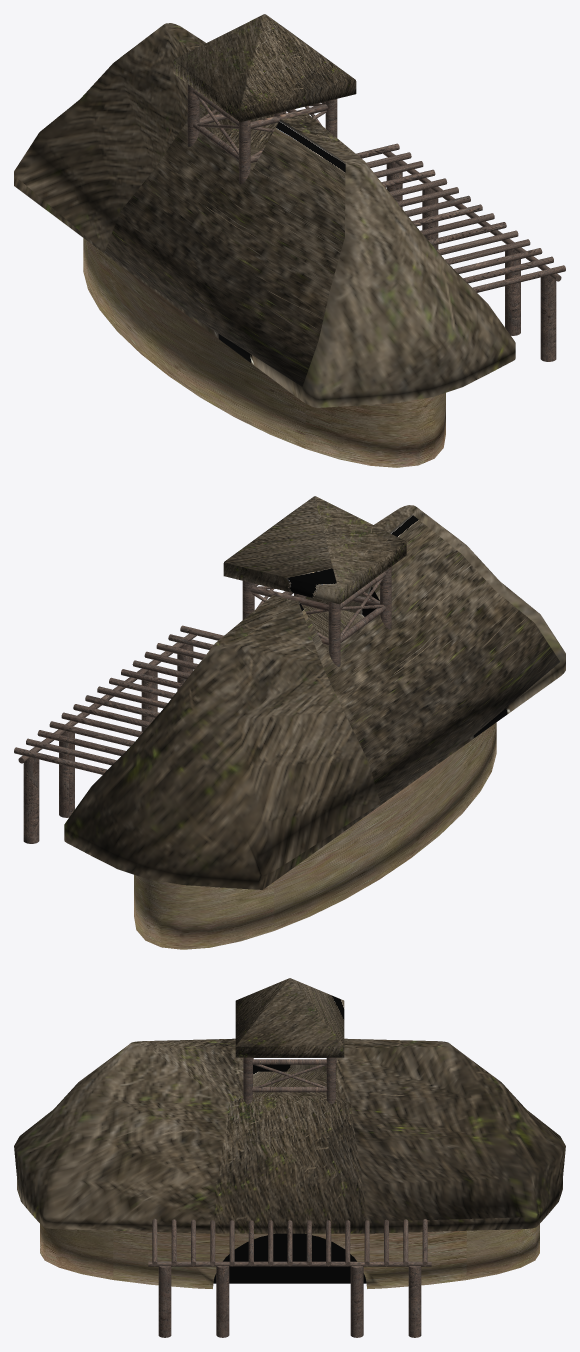
The model's file is Maloca.glb.
3 views of the same model, one above another, from view 1: azimuth 30°, elevation 25°; view 2: azimuth 150°, elevation 25°; view 3: azimuth 270°, elevation 25° (orthographic). The views are drawn at different scales.
Visible parts, largest first — view 1: Cube, Cylinder, Cube.001, Cylinder.014, Cylinder.005, Cylinder.003, Cylinder.006; view 2: Cube, Cylinder, Cube.001, Cylinder.014, Cylinder.005, Cylinder.003, Cylinder.006; view 3: Cube, Cylinder, Cube.001, Plane, Cylinder.014, Cylinder.003, Cylinder.005, Cylinder.006.
Part boxes in pixels (left/top/right/bottom): Cube: left=14, top=23, right=515, bottom=407; Cylinder: left=83, top=238, right=445, bottom=467; Cube.001: left=173, top=14, right=356, bottom=122; Cylinder.014: left=356, top=143, right=565, bottom=292; Cylinder.005: left=187, top=84, right=337, bottom=184; Cylinder.003: left=386, top=162, right=556, bottom=361; Cylinder.006: left=383, top=151, right=561, bottom=281; Cube: left=64, top=505, right=565, bottom=889; Cylinder: left=134, top=722, right=496, bottom=949; Cube.001: left=223, top=496, right=406, bottom=604; Cylinder.014: left=14, top=625, right=223, bottom=774; Cylinder.005: left=242, top=566, right=391, bottom=666; Cylinder.003: left=23, top=644, right=193, bottom=843; Cylinder.006: left=18, top=633, right=196, bottom=763; Cube: left=14, top=1038, right=565, bottom=1233; Cylinder: left=40, top=1224, right=539, bottom=1288; Cube.001: left=235, top=978, right=344, bottom=1057; Plane: left=213, top=1233, right=366, bottom=1283; Cylinder.014: left=152, top=1218, right=427, bottom=1266; Cylinder.003: left=158, top=1266, right=421, bottom=1337; Cylinder.005: left=243, top=1057, right=336, bottom=1104; Cylinder.006: left=148, top=1261, right=431, bottom=1266.
Size of the model in its own units: 24 by 23.64 by 42.9.
Materials: 4 (3 with a texture image).
